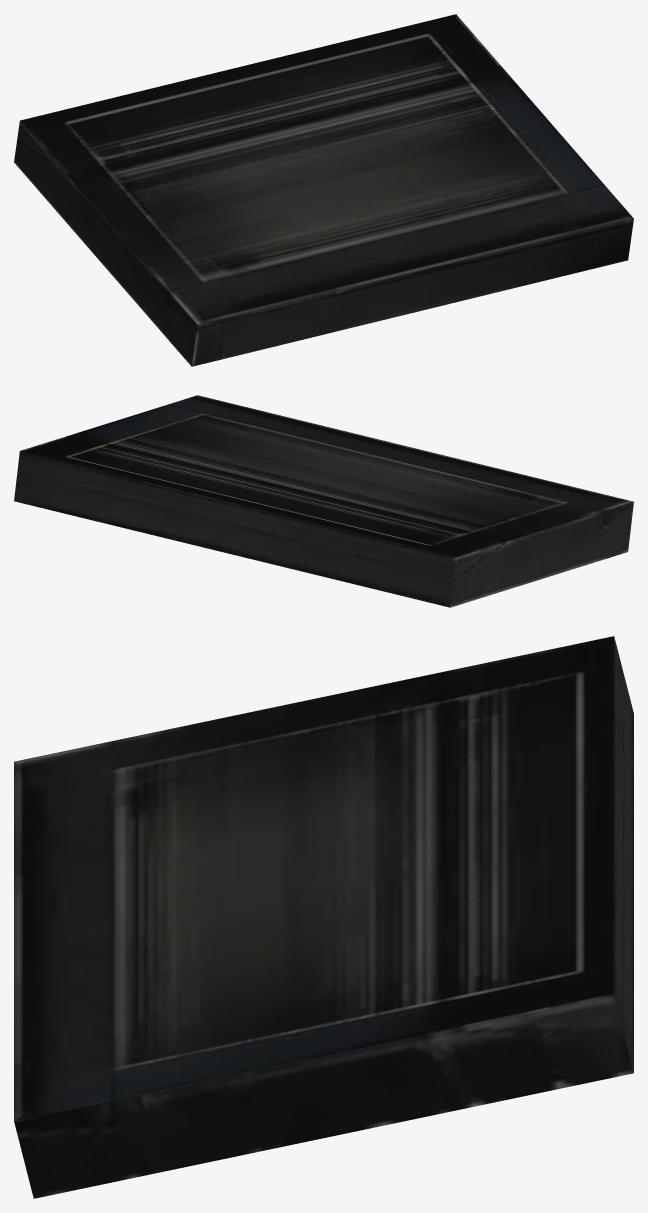
The model's file is cabinet__screen_bezel.glb.
3 views of the same model, one above another, from view 1: azimuth 30°, elevation 25°; view 2: azimuth 150°, elevation 25°; view 3: azimuth 270°, elevation 25° (orthographic). The views are drawn at different scales.
Parts seen in each view (by area): view 1: geometry_0; view 2: geometry_0; view 3: geometry_0.
Part boxes in pixels (x1,y1,x2,y2): geometry_0: (14, 14, 633, 366); geometry_0: (14, 395, 633, 607); geometry_0: (14, 636, 633, 1198).
Bounding box in the file's own units: 0.58 × 0.1529 × 0.4227.
1 material, 1 textured.
